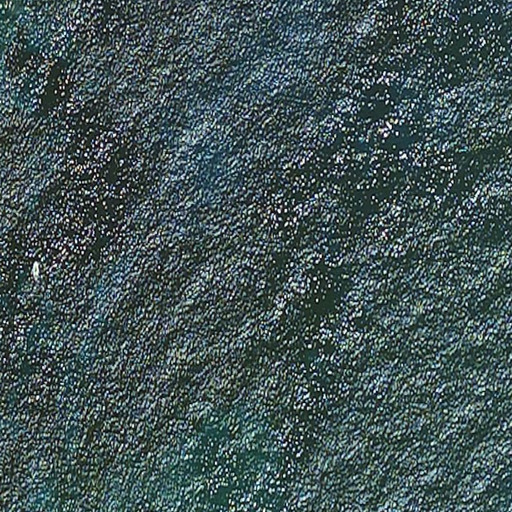ship: (29, 259, 41, 283)
